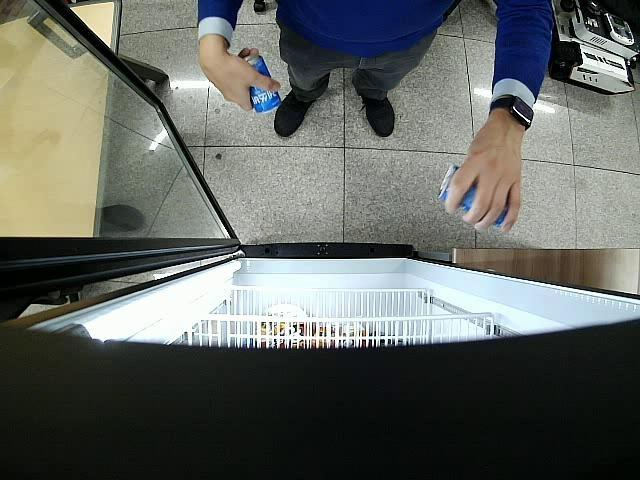15_letsbe: (438, 163, 508, 230), (244, 54, 282, 114)
